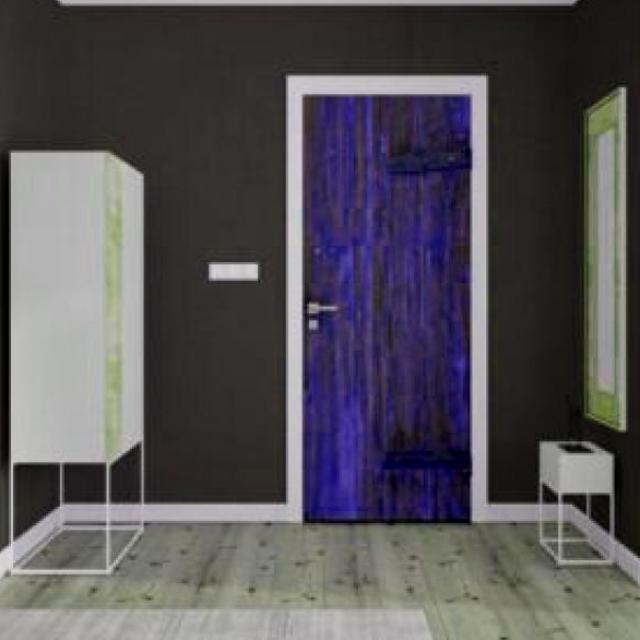door: (279, 62, 499, 546)
